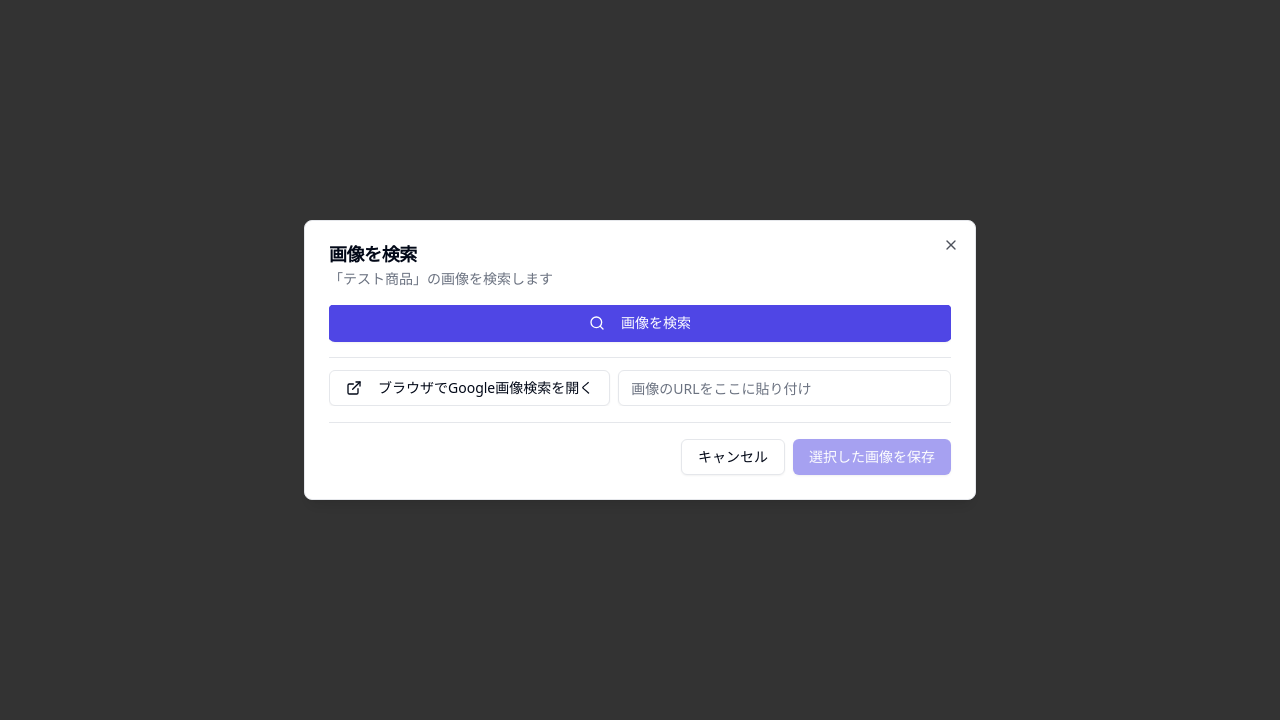
Test case: ImageSearchDialog › shows error when search returns no results
This screenshot has width=1280, height=720.
Click the button "画像を検索": (640, 323) [329,305,951,341]
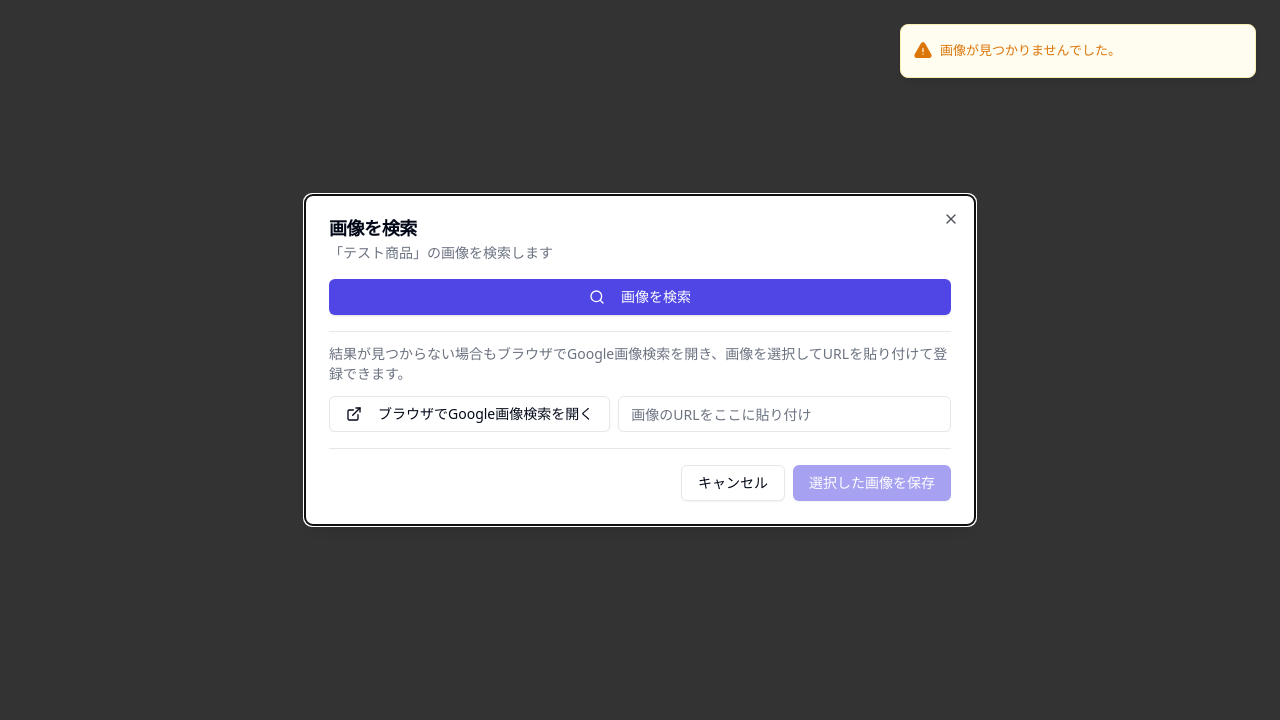
Check: the text "画像が見つかりませんでした。" is shown, box [940,41,1121,60]
